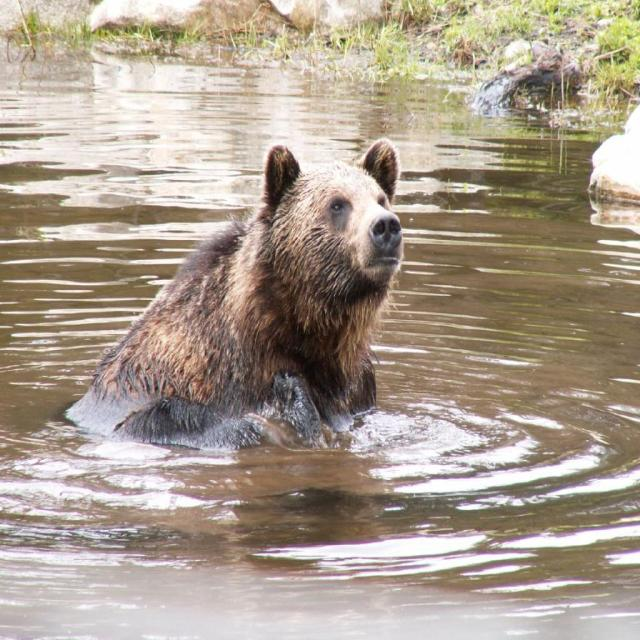Cheetahs: (64, 133, 406, 458)
